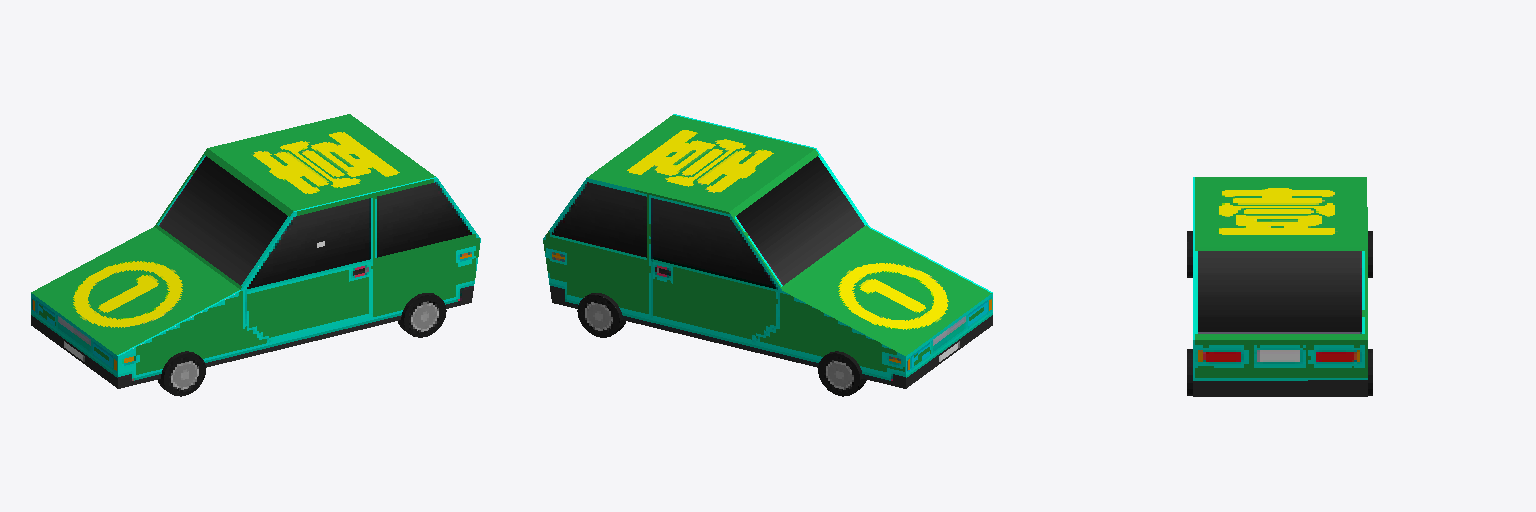
3 views of the same model, side by side, from view 1: azimuth 30°, elevation 25°; view 2: azimuth 150°, elevation 25°; view 3: azimuth 270°, elevation 25° (orthographic).
Parts seen in each view (by area): view 1: car_part1, car_part4, car_part2; view 2: car_part1, car_part5, car_part3; view 3: car_part1.
Part boxes in pixels (x1,y1,x2,y2): car_part1: (31, 114, 480, 388); car_part4: (398, 293, 446, 337); car_part2: (158, 351, 205, 396); car_part1: (543, 114, 992, 388); car_part5: (577, 293, 625, 337); car_part3: (818, 351, 866, 396); car_part1: (1193, 177, 1367, 396).
Size of the model in its own units: 78.52 by 31.87 by 34.84.
1 materials, 1 textured.